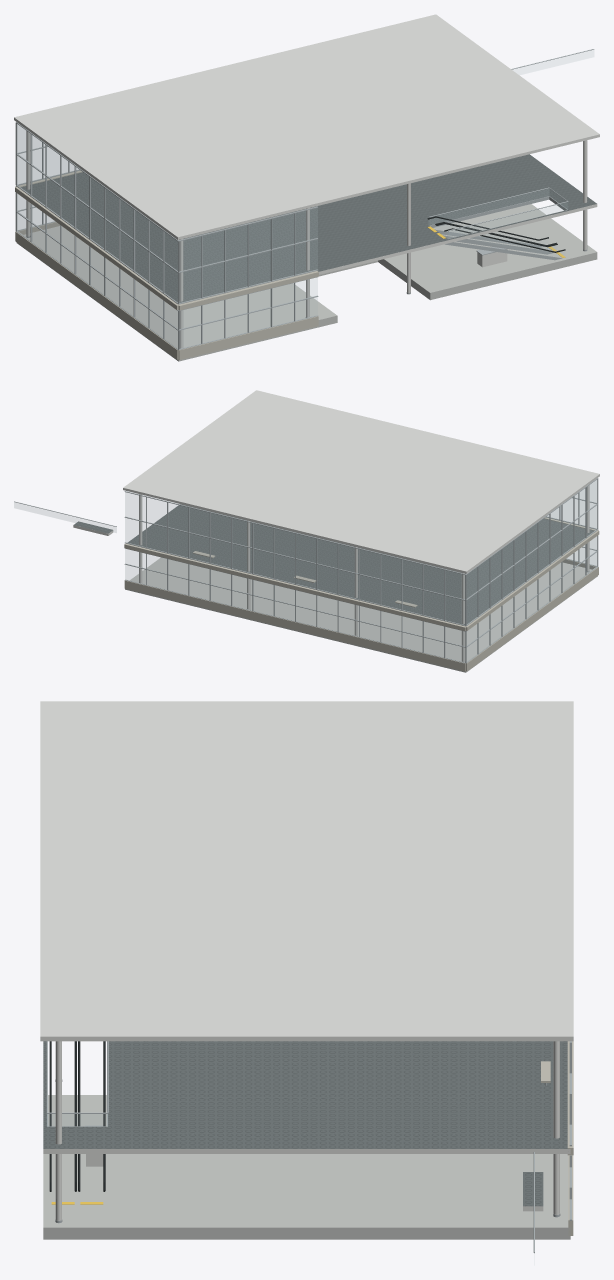
The model's file is addition.glb.
3 views of the same model, one above another, from view 1: azimuth 30°, elevation 25°; view 2: azimuth 150°, elevation 25°; view 3: azimuth 270°, elevation 25° (orthographic). The views are drawn at different scales.
Parts seen in each view (by area): view 1: Hospitality roof, Exterior window wall, Hospitality carpet surface, Lower gallery floor, Window mullion, Continuous stone floor fascia, Hospitality balcony floor, Escalator black moving handrail; view 2: Hospitality roof, Exterior window wall, Hospitality carpet surface, Lower gallery floor, Window mullion, Continuous stone floor fascia, Hospitality balcony floor; view 3: Hospitality roof, Hospitality carpet surface, Lower gallery floor, Hospitality balcony floor, Escalator black moving handrail, Window mullion, Continuous stone floor fascia.
Boxes of the visible parts, x1=… form: Hospitality roof: x1=14, y1=14, x2=599, y2=239; Exterior window wall: x1=17, y1=50, x2=593, y2=348; Hospitality carpet surface: x1=21, y1=154, x2=596, y2=302; Lower gallery floor: x1=16, y1=204, x2=597, y2=361; Window mullion: x1=15, y1=49, x2=594, y2=349; Continuous stone floor fascia: x1=15, y1=170, x2=318, y2=359; Hospitality balcony floor: x1=26, y1=131, x2=597, y2=348; Escalator black moving handrail: x1=427, y1=216, x2=565, y2=252; Hospitality roof: x1=123, y1=390, x2=599, y2=573; Exterior window wall: x1=14, y1=480, x2=597, y2=661; Hospitality carpet surface: x1=74, y1=504, x2=593, y2=624; Lower gallery floor: x1=125, y1=557, x2=597, y2=672; Window mullion: x1=14, y1=478, x2=598, y2=663; Continuous stone floor fascia: x1=124, y1=517, x2=599, y2=671; Hospitality balcony floor: x1=73, y1=485, x2=589, y2=662; Hospitality roof: x1=40, y1=701, x2=573, y2=1041; Hospitality carpet surface: x1=43, y1=1041, x2=567, y2=1206; Lower gallery floor: x1=43, y1=1095, x2=570, y2=1239; Hospitality balcony floor: x1=43, y1=1041, x2=570, y2=1220; Escalator black moving handrail: x1=49, y1=1041, x2=105, y2=1191; Window mullion: x1=46, y1=1041, x2=571, y2=1253; Continuous stone floor fascia: x1=541, y1=1041, x2=573, y2=1235.
Size of the model in its own units: 34.31 by 7.24 by 17.15.
9 materials, 1 textured.
